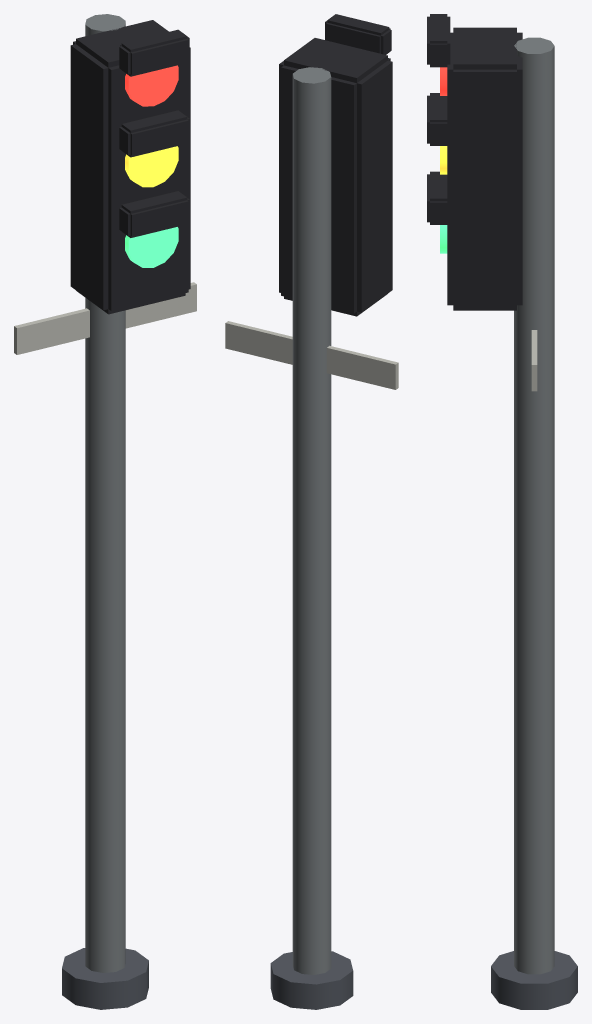
File: traffic_light_car.glb
3 views of the same model, side by side, from view 1: azimuth 30°, elevation 25°; view 2: azimuth 150°, elevation 25°; view 3: azimuth 270°, elevation 25° (orthographic). The views are drawn at different scales.
Visible parts, largest first — view 1: light_mesh; view 2: light_mesh; view 3: light_mesh.
Part boxes in pixels (left/top/right/bottom): light_mesh: left=14, top=14, right=196, bottom=1009; light_mesh: left=225, top=14, right=398, bottom=1009; light_mesh: left=427, top=14, right=577, bottom=1009.
Size of what is drawn, in the model's own units: 0.7 by 3.67 by 0.52.
